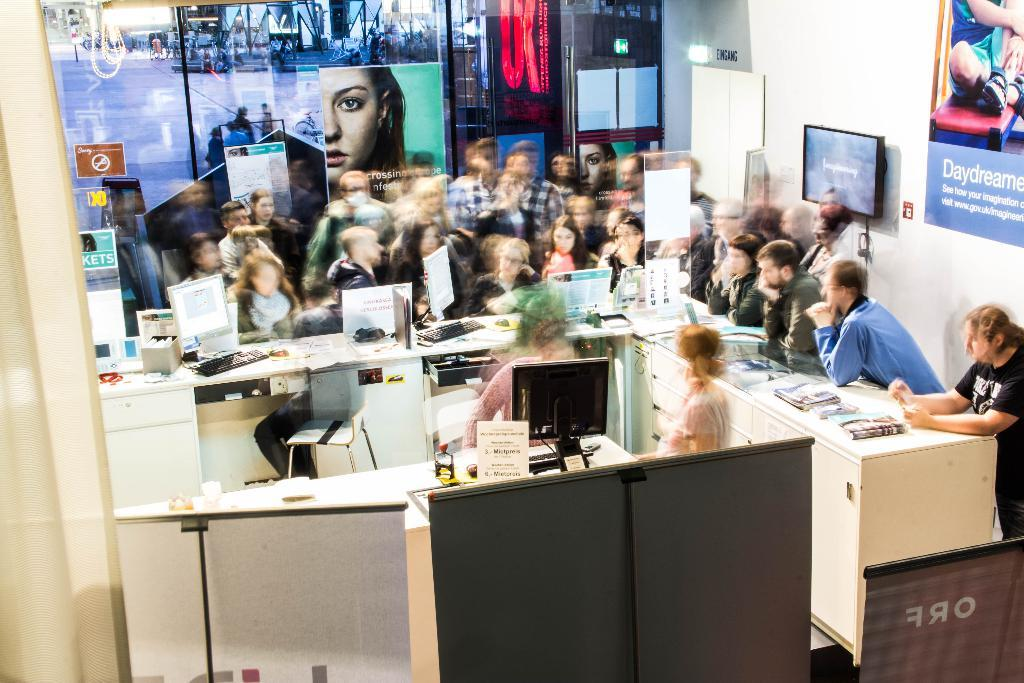Computer-keyboard: (192, 347, 268, 376), (414, 317, 486, 344)
Computer-monitor: (800, 122, 887, 219), (165, 272, 237, 358)
Computer-mouse: (509, 354, 610, 470)
